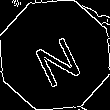N_NW: (26, 24, 84, 86)
